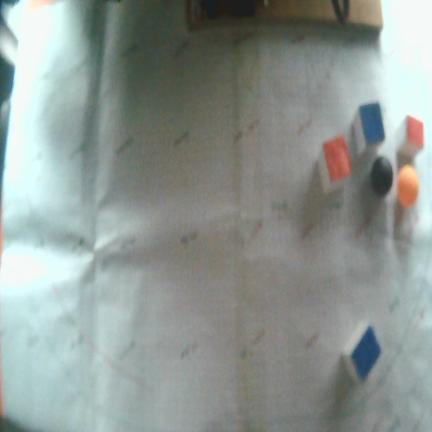circle_blue: (370, 157, 393, 198)
circle_orange: (398, 164, 419, 209)
rectangle_blue: (350, 324, 381, 384)
rectangle_orange: (407, 117, 424, 149)
square_blue: (358, 103, 384, 147)
square_orange: (323, 134, 352, 182)
